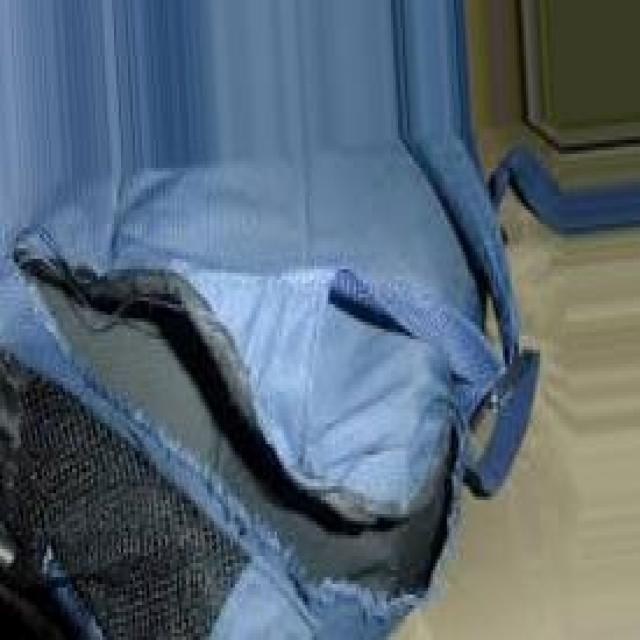Damage-bag: (10, 228, 459, 639)
